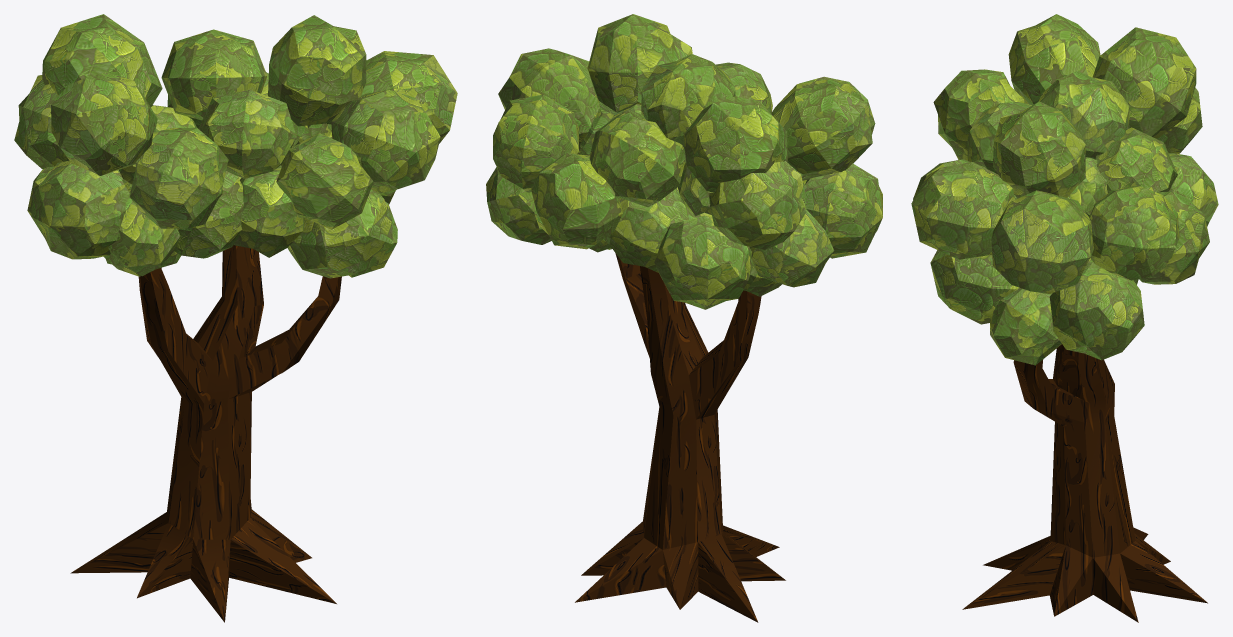
File: OptimisedTree2.fbx
The picture shows the model from 3 angles, left to right: view 1: azimuth 30°, elevation 25°; view 2: azimuth 150°, elevation 25°; view 3: azimuth 270°, elevation 25°; orthographic projection. The views are drawn at different scales.
Parts seen in each view (by area): view 1: OptimisedTree2; view 2: OptimisedTree2; view 3: OptimisedTree2.
Part boxes in pixels (<box>): OptimisedTree2: <box>14,14,457,622</box>; OptimisedTree2: <box>486,14,882,622</box>; OptimisedTree2: <box>911,14,1218,622</box>.
Bounding box in the file's own units: 5.07 × 6.67 × 3.63.
1 material, 1 textured.
